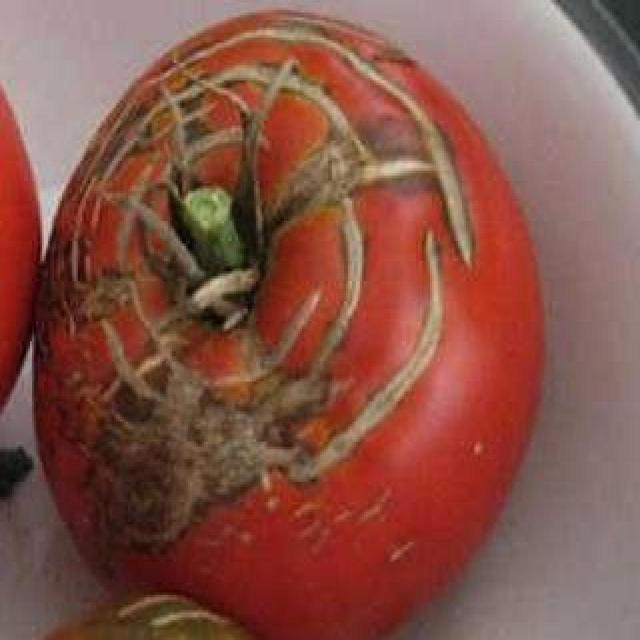Cracking Fruit: (142, 45, 278, 356)
